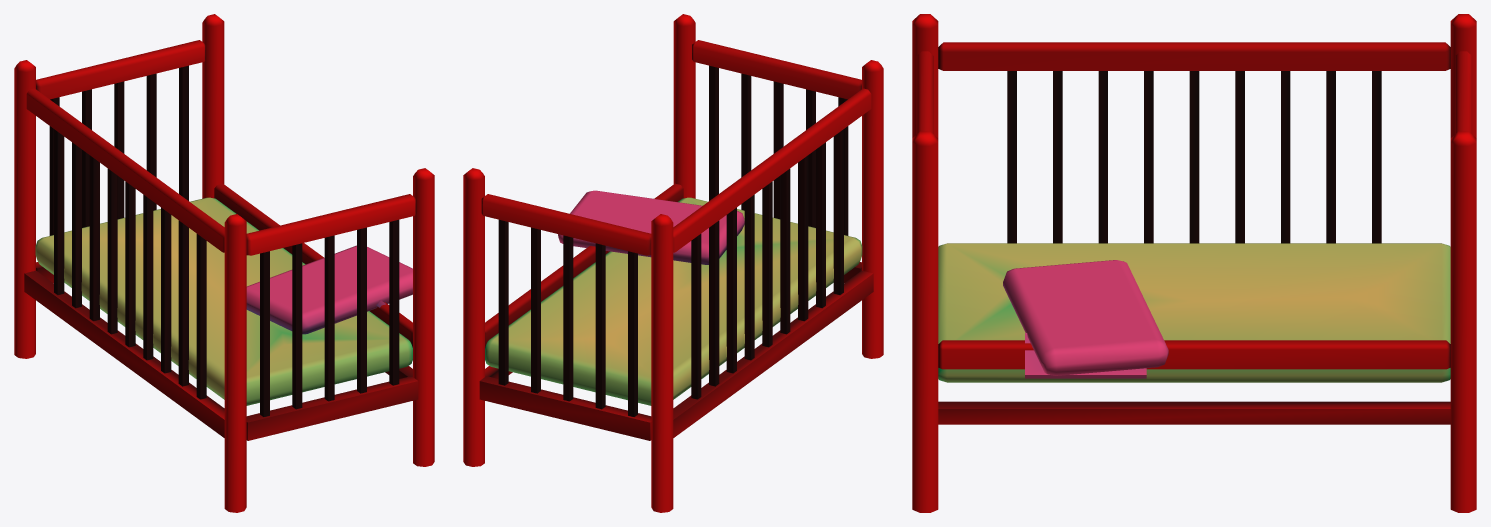
Rendered from CI_Kids_Cot.glb.
The picture shows the model from 3 angles, left to right: view 1: azimuth 30°, elevation 25°; view 2: azimuth 150°, elevation 25°; view 3: azimuth 270°, elevation 25°; orthographic projection. The views are drawn at different scales.
Parts seen in each view (by area): view 1: CI_Kids_Cot; view 2: CI_Kids_Cot; view 3: CI_Kids_Cot.
Boxes of the visible parts, box(x1,y1,x2,y2) form: CI_Kids_Cot: box(14, 14, 434, 512); CI_Kids_Cot: box(463, 14, 883, 512); CI_Kids_Cot: box(912, 14, 1476, 512).
Size of the model in its own units: 0.8389 by 0.95 by 1.3.
